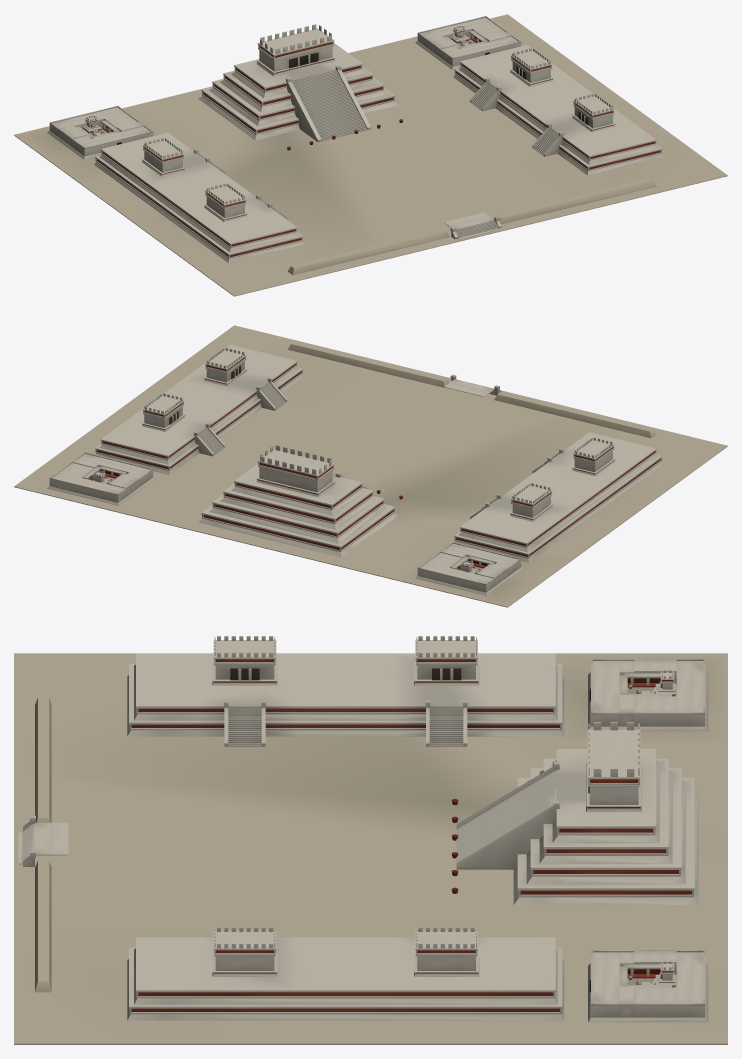
File: plaza-of-the-columns.glb
The picture shows the model from 3 angles, top to bottom: view 1: azimuth 30°, elevation 25°; view 2: azimuth 150°, elevation 25°; view 3: azimuth 270°, elevation 25°; orthographic projection. The views are drawn at different scales.
Parts seen in each view (by area): view 1: p0_plaza, p1_stage1, p2_stage2; view 2: p0_plaza, p1_stage1, p2_stage2; view 3: p0_plaza, p1_stage1, p2_stage2.
Boxes of the visible parts, x1,y1,x2,y2 form: p0_plaza: [14, 14, 727, 296]; p1_stage1: [94, 24, 663, 275]; p2_stage2: [47, 16, 615, 222]; p0_plaza: [14, 325, 727, 607]; p1_stage1: [95, 341, 663, 562]; p2_stage2: [47, 347, 615, 595]; p0_plaza: [14, 653, 727, 1044]; p1_stage1: [18, 653, 698, 1020]; p2_stage2: [212, 636, 708, 1022].
Bounding box in the file's own units: 220 × 27.35 × 170.
